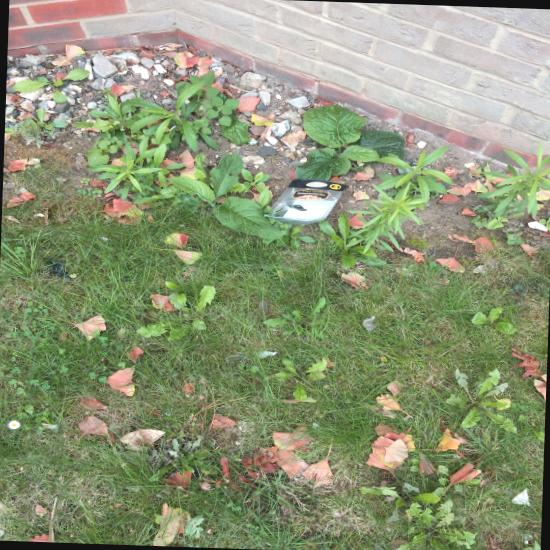Disposable food container: (264, 179, 347, 225)
Plastic film: (264, 179, 347, 217), (363, 316, 377, 332)
Unlabeled litter: (513, 487, 530, 506)
